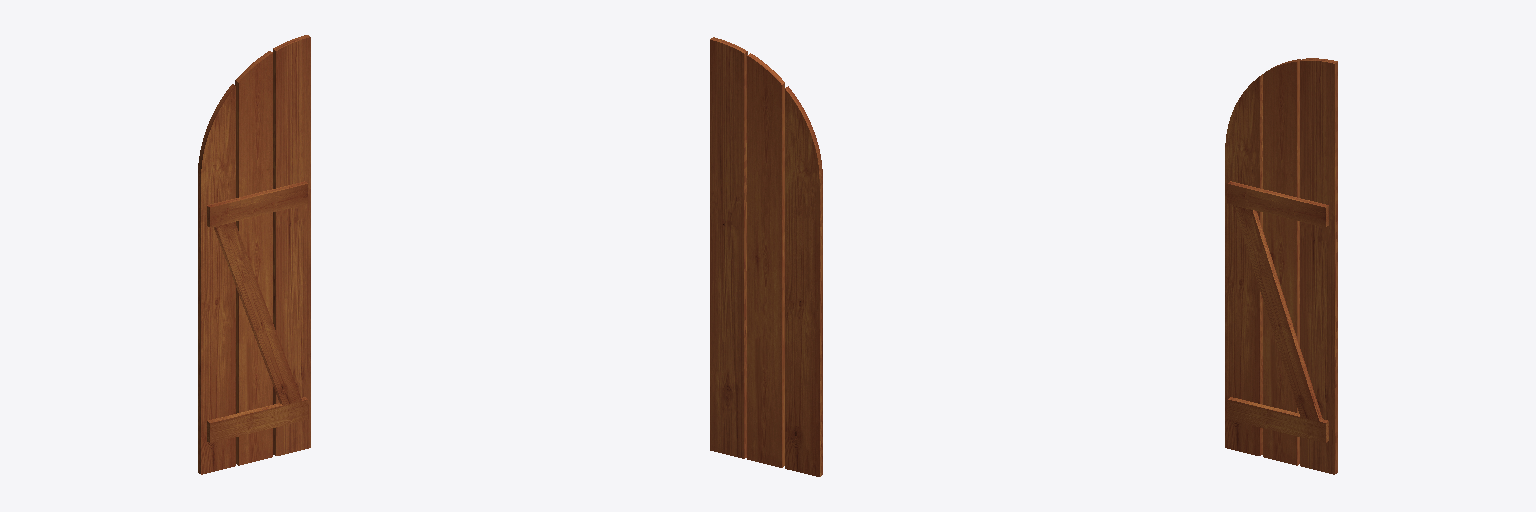
The picture shows the model from 3 angles: view 1: azimuth 30°, elevation 25°; view 2: azimuth 150°, elevation 25°; view 3: azimuth 330°, elevation 25°; orthographic projection.
Visible parts, largest first — view 1: shutter002, shutter003, shutter001, shutter004, shutter005; view 2: shutter003, shutter002, shutter001; view 3: shutter003, shutter002, shutter001, shutter004, shutter005.
Part boxes in pixels (x1,y1,x2,y2): shutter002: (207, 51, 307, 465); shutter003: (273, 35, 310, 455); shutter001: (198, 84, 235, 474); shutter004: (214, 222, 301, 404); shutter005: (207, 181, 307, 227); shutter003: (710, 37, 747, 458); shutter002: (747, 53, 784, 467); shutter001: (785, 86, 822, 476); shutter003: (1300, 58, 1337, 474); shutter002: (1227, 59, 1328, 465); shutter001: (1225, 74, 1262, 455); shutter004: (1233, 205, 1322, 421); shutter005: (1227, 181, 1328, 227).
Bounding box in the file's own units: 14.25 × 51 × 1.5.
5 materials, 5 textured.